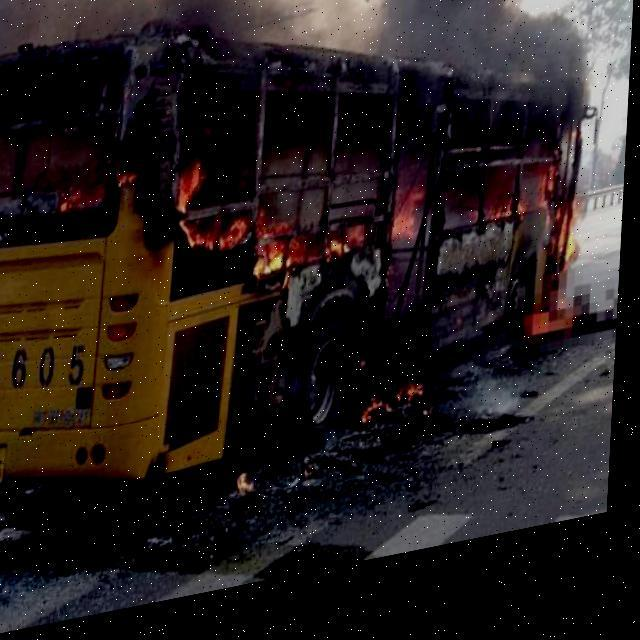Fire: (61, 80, 601, 398), (365, 395, 429, 442)
